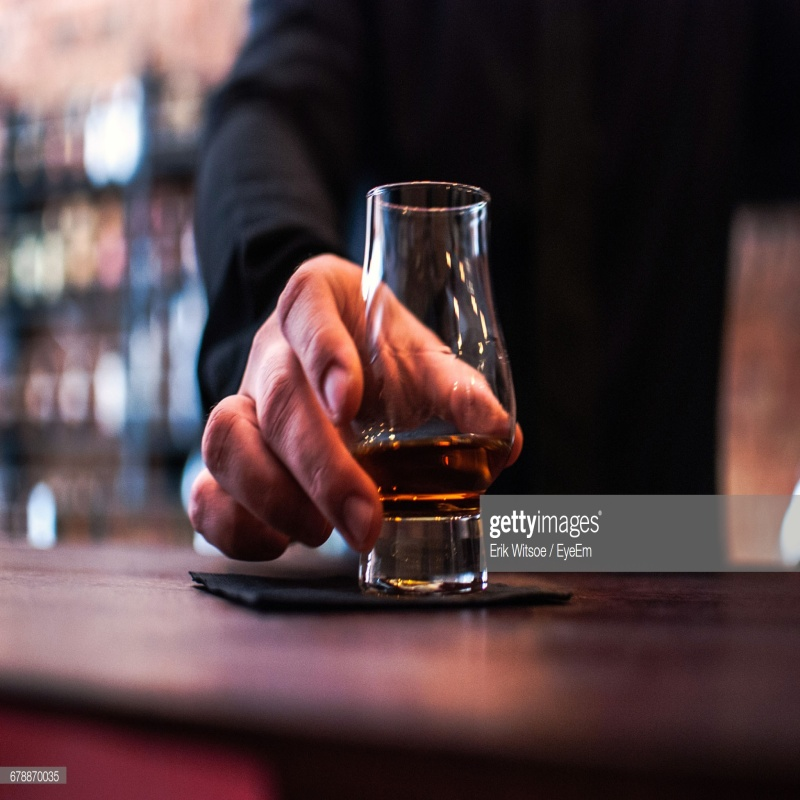whiskey: (347, 172, 515, 541)
